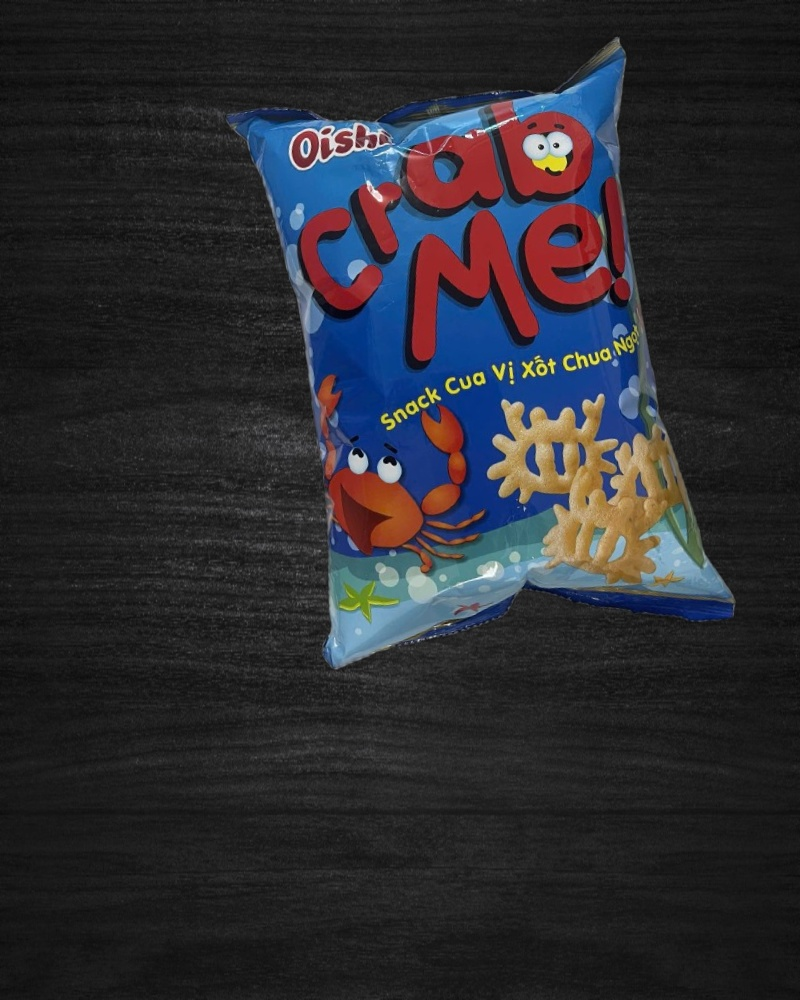Snack cua: (224, 34, 738, 684)
